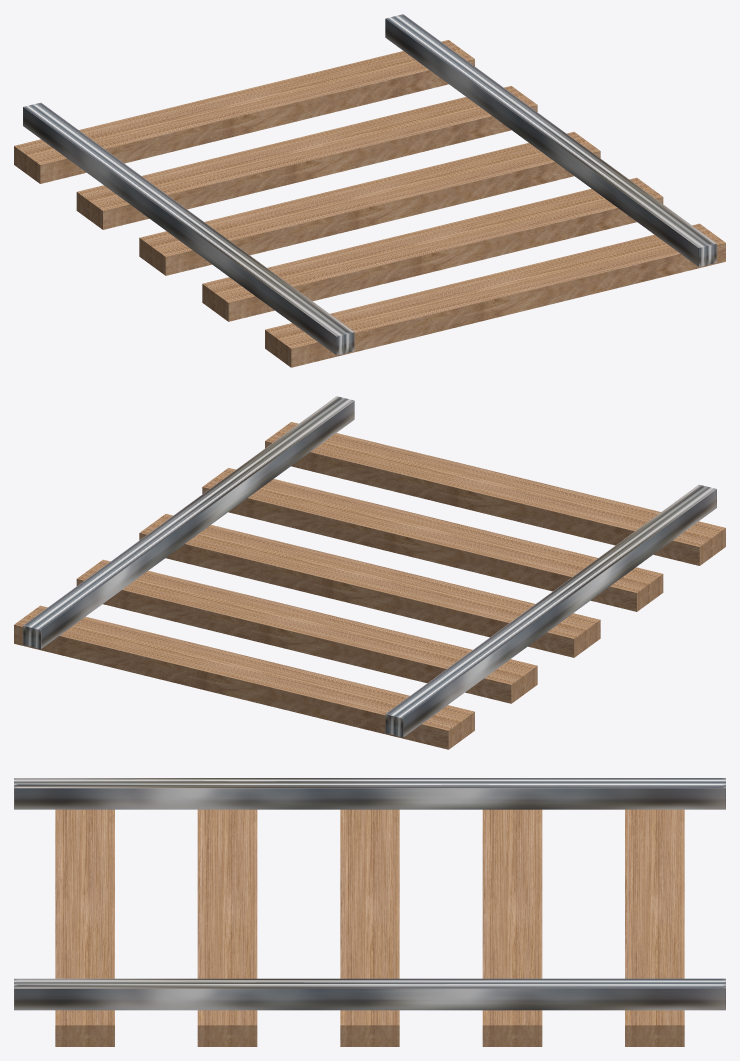
Rendered from Rail.fbx.
3 renders of one model, top to bottom at view 1: azimuth 30°, elevation 25°; view 2: azimuth 150°, elevation 25°; view 3: azimuth 270°, elevation 25°, orthographic. The views are drawn at different scales.
Parts seen in each view (by area): view 1: Cube__6_, Cube__3_, Cube__4_, Cube__5_, Cube__2_, Cube, Cube__1_; view 2: Cube__2_, Cube__5_, Cube__4_, Cube__3_, Cube__6_, Cube, Cube__1_; view 3: Cube, Cube__1_, Cube__3_, Cube__5_, Cube__2_, Cube__4_, Cube__6_.
Part boxes in pixels (x1,y1,x2,y2): Cube__6_: (265,223,725,367); Cube__3_: (76,86,537,229); Cube__4_: (139,132,600,275); Cube__5_: (202,177,663,321); Cube__2_: (14,40,474,183); Cube: (385,14,716,266); Cube__1_: (23,102,354,355); Cube__2_: (14,605,474,749); Cube__5_: (202,468,663,611); Cube__4_: (139,514,600,657); Cube__3_: (76,559,537,703); Cube__6_: (265,422,725,565); Cube: (23,396,354,648); Cube__1_: (385,484,716,737); Cube: (14,978,725,1010); Cube__1_: (14,778,725,809); Cube__3_: (482,809,542,1046); Cube__5_: (197,809,257,1046); Cube__2_: (625,809,684,1046); Cube__4_: (340,809,399,1046); Cube__6_: (55,809,114,1046).
Size of the model in its own units: 120 by 10 by 150.
